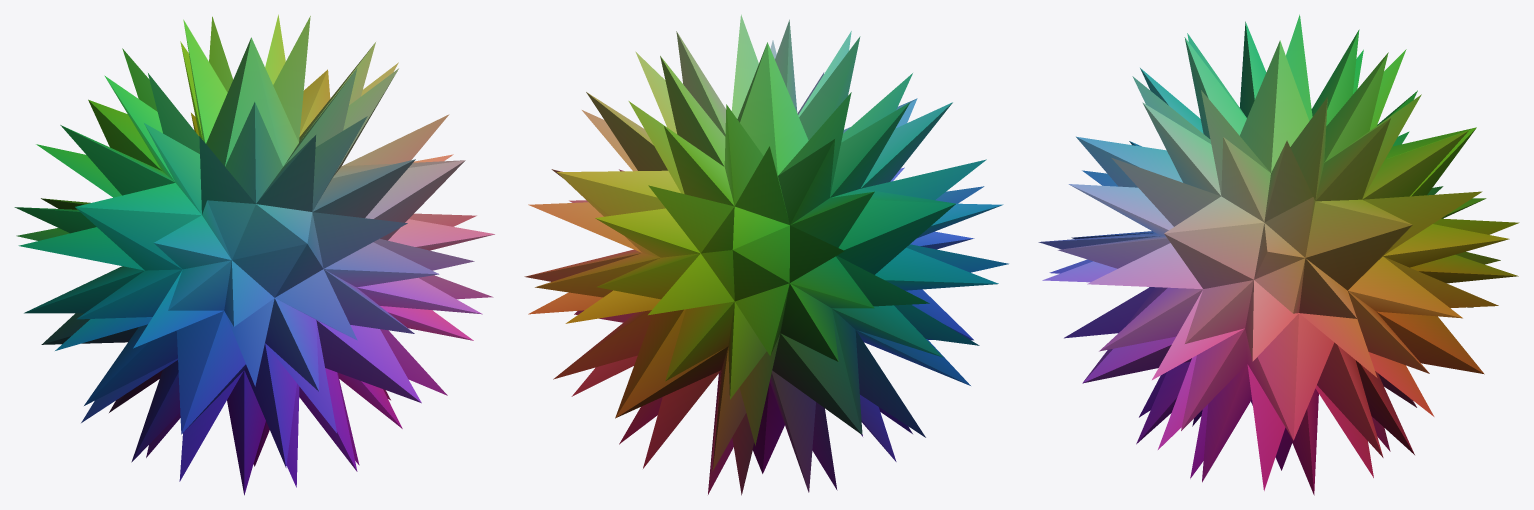
The picture shows the model from 3 angles, left to right: view 1: azimuth 30°, elevation 25°; view 2: azimuth 150°, elevation 25°; view 3: azimuth 270°, elevation 25°; orthographic projection.
Visible parts, largest first — view 1: anim_neg10_neg10_10.005; view 2: anim_neg10_neg10_10.005; view 3: anim_neg10_neg10_10.005.
Boxes of the visible parts, x1,y1,x2,y2 form: anim_neg10_neg10_10.005: (14, 14, 494, 495); anim_neg10_neg10_10.005: (524, 14, 1008, 495); anim_neg10_neg10_10.005: (1038, 14, 1519, 495).
Size of the model in its own units: 0.4965 by 0.4914 by 0.5.
